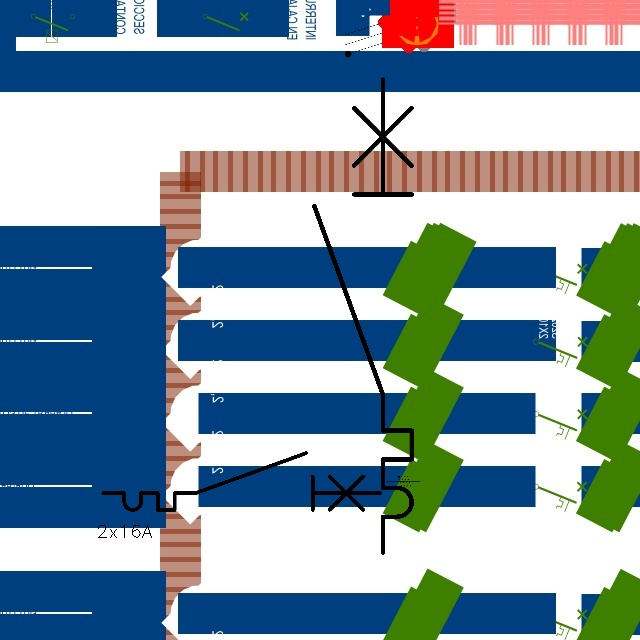interruptor_termomagnetico: (302, 67, 424, 565), (96, 446, 387, 517)
